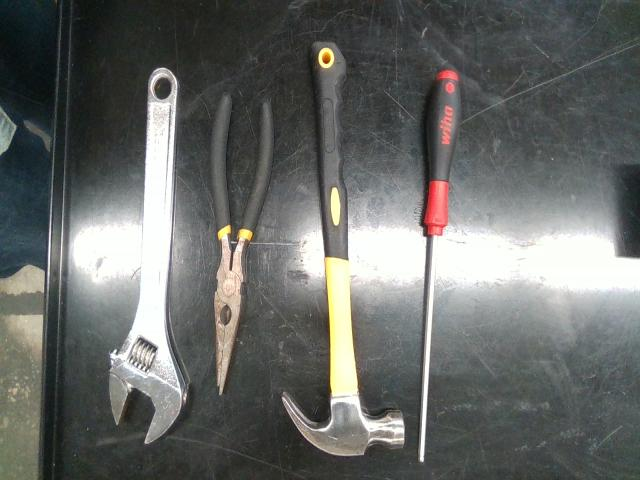Adjustable spanner: (109, 68, 189, 443)
Hammer: (282, 42, 405, 456)
Needle-nose pliers: (211, 93, 274, 392)
Screwdriver: (418, 70, 461, 461)
